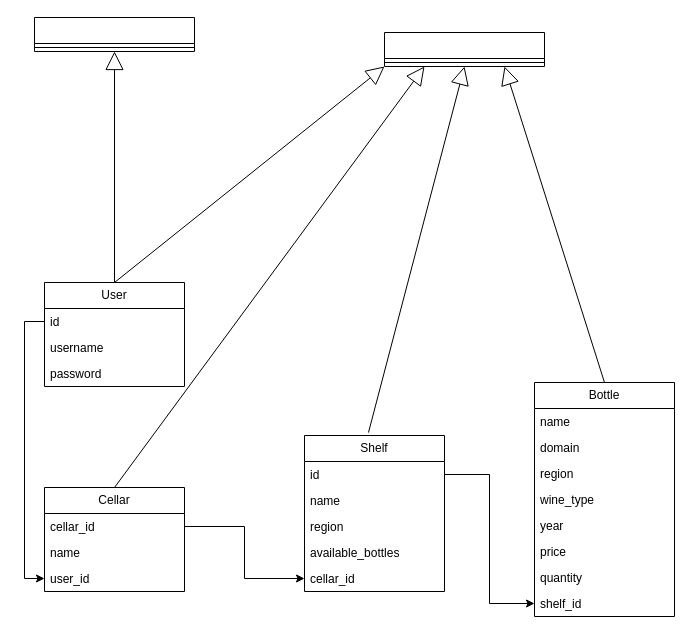
This 692x637 diagram has some shape labels left out. Here are the shapes that lost their labels. From the top down, the centre of each, then its label:
At pixel 114 34: "flask_login.UserMixin".
At pixel 464 49: "Base (external library)".
